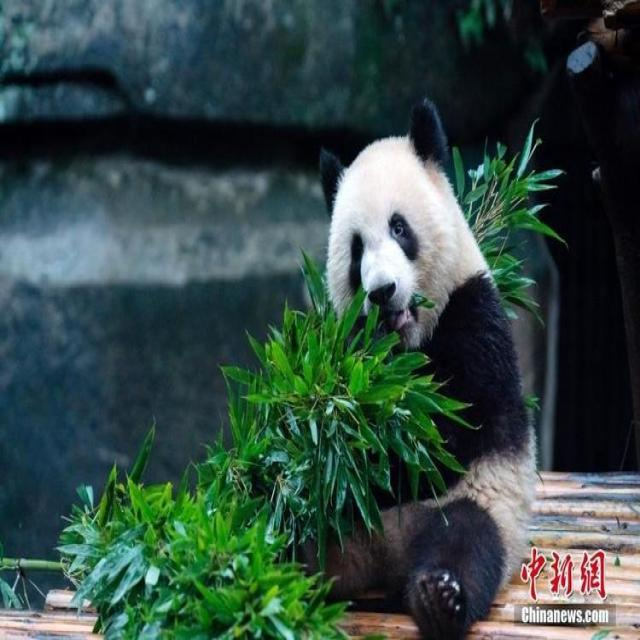panda: (268, 93, 546, 640)
